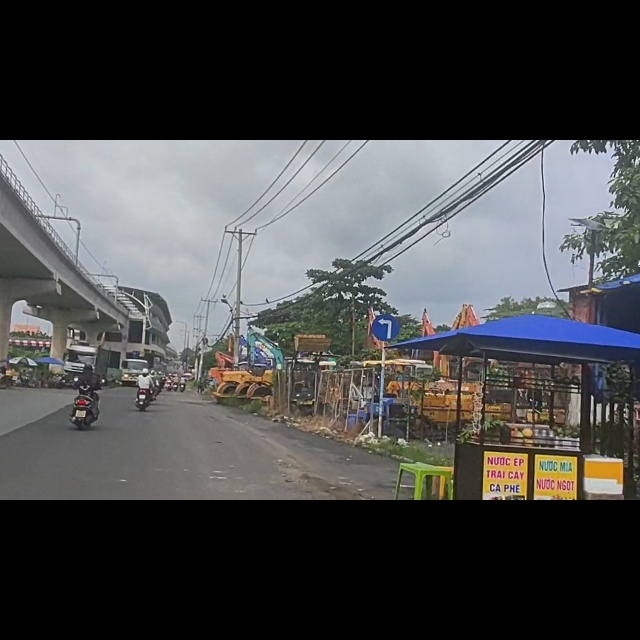bien_hieu_lenh: (373, 311, 399, 359)
